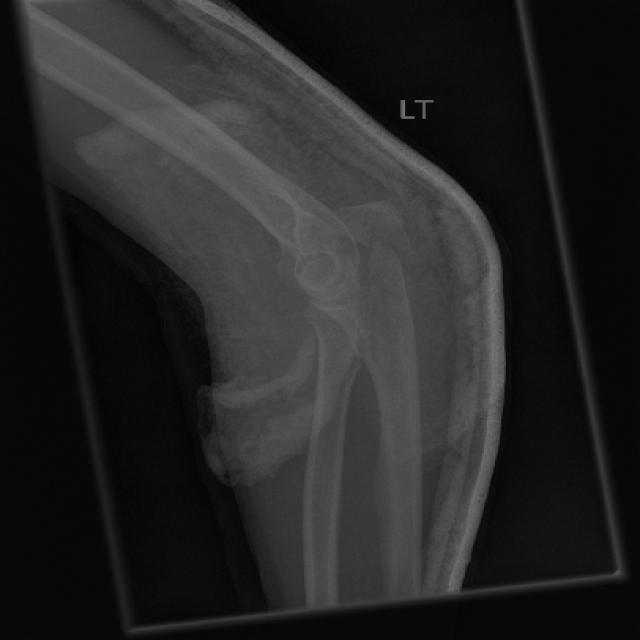elbow positive: (350, 209, 443, 318)
